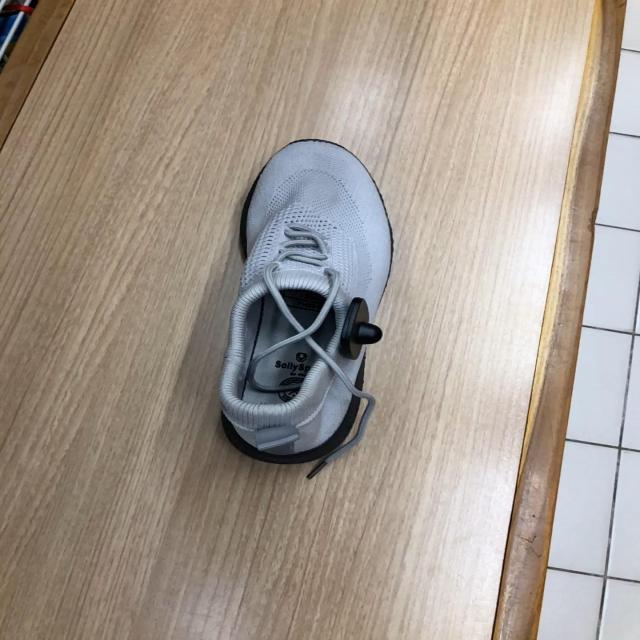shoe: (219, 140, 394, 466)
